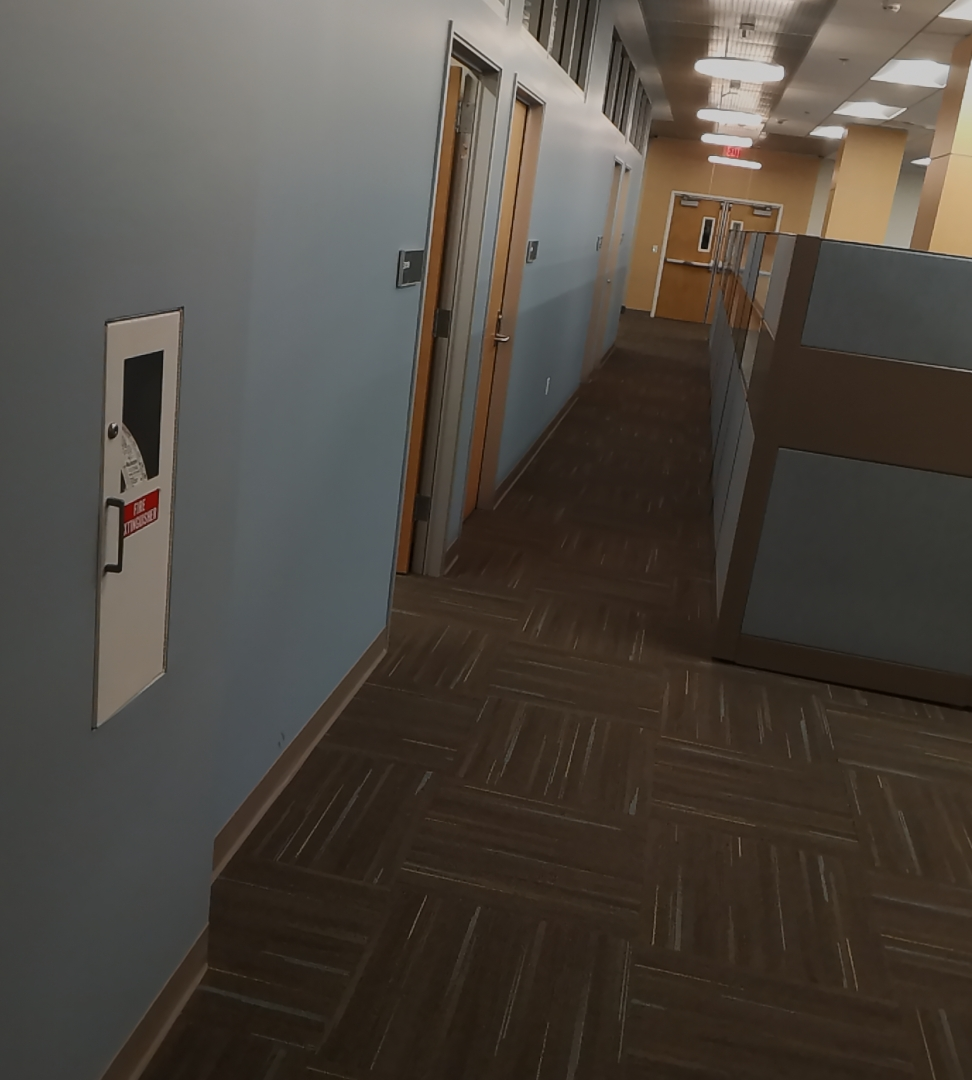emergency_exit: (89, 304, 186, 730)
